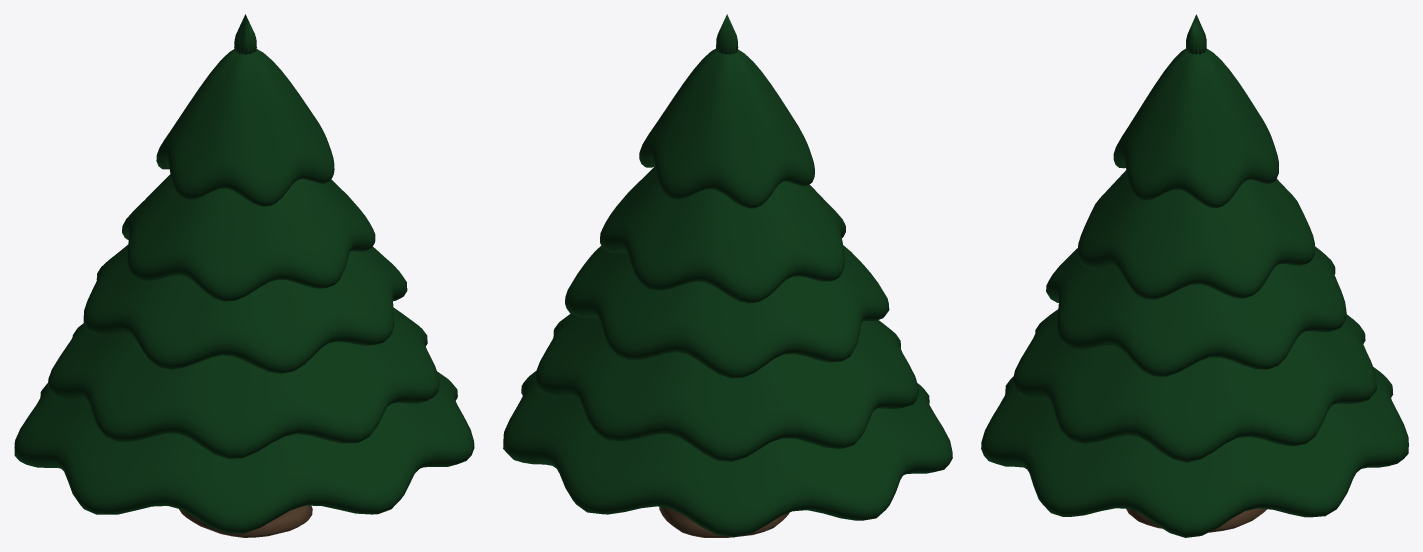
The model's file is ChristmasTree.fbx.
3 views of the same model, side by side, from view 1: azimuth 30°, elevation 25°; view 2: azimuth 150°, elevation 25°; view 3: azimuth 270°, elevation 25° (orthographic).
Visible parts, largest first — view 1: TreeFoliage, TreeTrunk; view 2: TreeFoliage, TreeTrunk; view 3: TreeFoliage, TreeTrunk.
Part boxes in pixels (left/top/right/bottom): TreeFoliage: left=14, top=14, right=474, bottom=533; TreeTrunk: left=179, top=505, right=312, bottom=537; TreeFoliage: left=503, top=14, right=952, bottom=537; TreeTrunk: left=659, top=507, right=789, bottom=537; TreeFoliage: left=981, top=14, right=1408, bottom=537; TreeTrunk: left=1126, top=508, right=1266, bottom=532.
Size of the model in its own units: 477 by 572 by 448.
